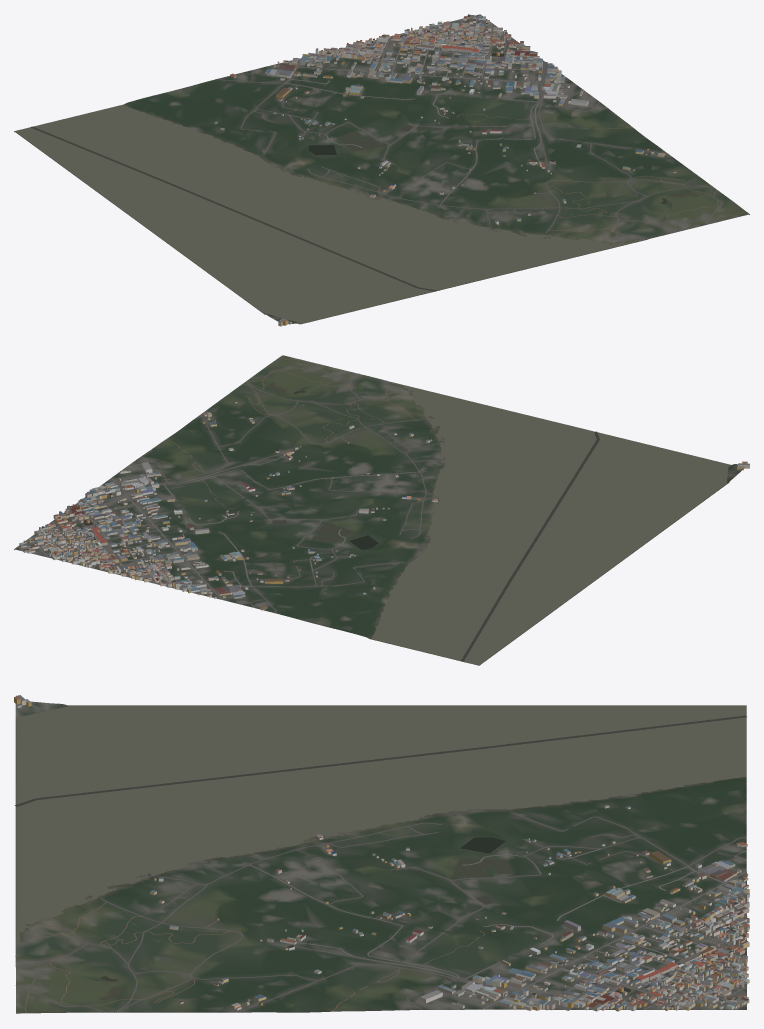
3 views of the same model, one above another, from view 1: azimuth 30°, elevation 25°; view 2: azimuth 150°, elevation 25°; view 3: azimuth 270°, elevation 25° (orthographic). The views are drawn at different scales.
Parts seen in each view (by area): view 1: ground, water, buildings, roads; view 2: ground, water, buildings, roads; view 3: ground, water, buildings, roads.
Boxes of the visible parts, bbox=[...] form: ground: bbox=[14, 14, 749, 324]; water: bbox=[15, 52, 698, 323]; buildings: bbox=[214, 14, 676, 326]; roads: bbox=[218, 16, 747, 239]; ground: bbox=[14, 355, 744, 665]; water: bbox=[82, 381, 728, 665]; buildings: bbox=[19, 401, 749, 610]; roads: bbox=[18, 355, 433, 613]; ground: bbox=[15, 701, 746, 1013]; water: bbox=[14, 705, 746, 999]; buildings: bbox=[14, 695, 749, 1011]; roads: bbox=[15, 813, 747, 1013].
Bounding box in the file's own units: 1418 × 27.76 × 1411.
